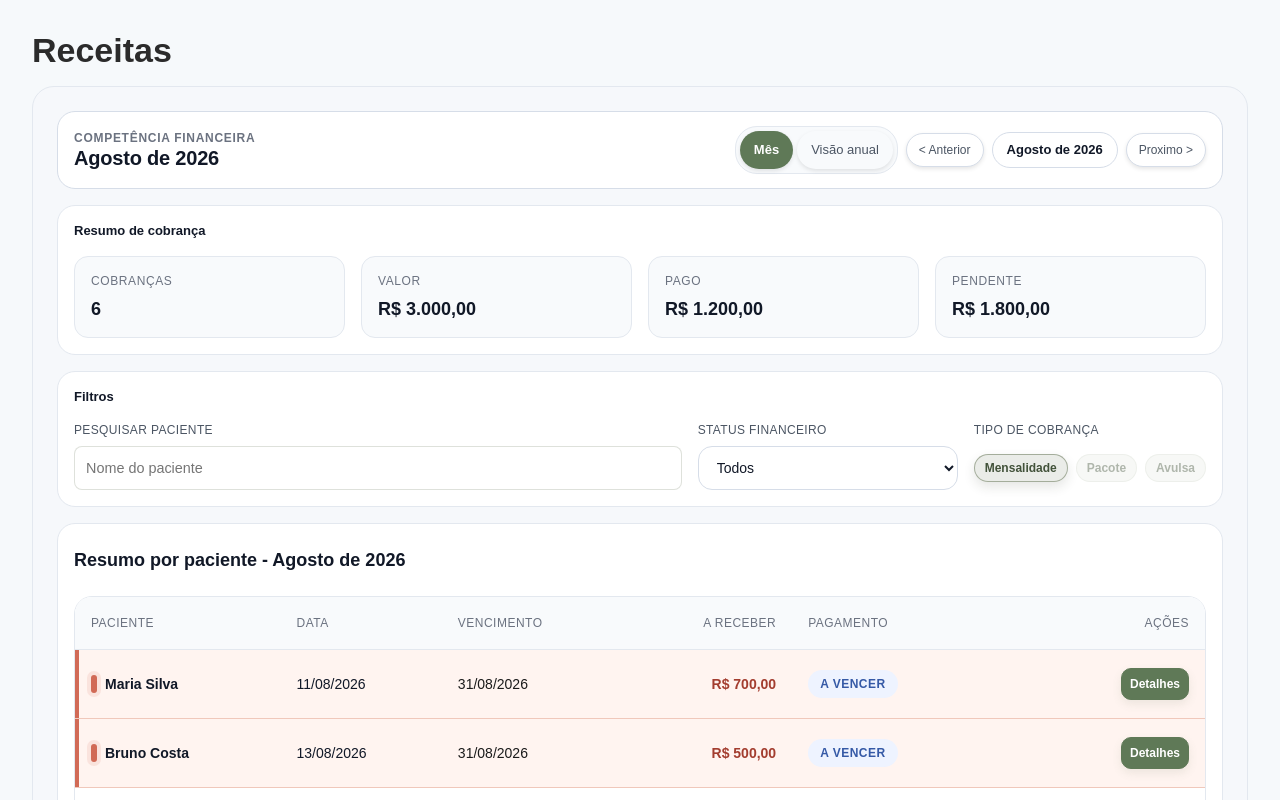
Test: consulta falha permanece explícita e não habilita recebimento
Click the button "Detalhes" in the row of "Maria Silva".
click(1155, 684)  # box x1=1121 y1=668 x2=1189 y2=700
(page scrolled)
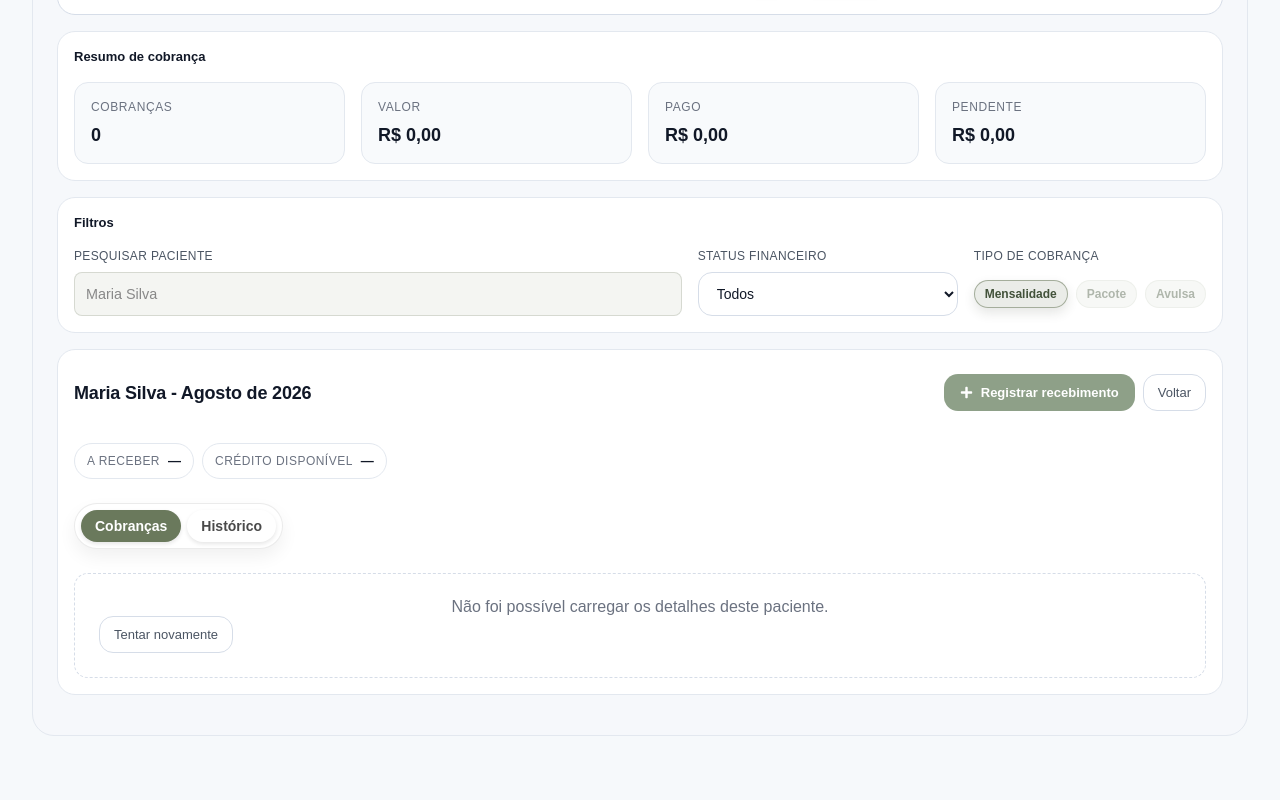
Expected: the message shows "Não foi possível", x1=451 y1=598 x2=828 y2=615
Expected: the button "Registrar recebimento" is disabled, x1=944 y1=374 x2=1135 y2=411
Expected: the button "Tentar novamente" is enabled, x1=99 y1=616 x2=233 y2=653
